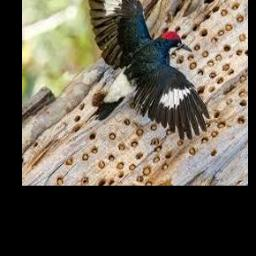Woodpecker: (86, 0, 210, 140)
